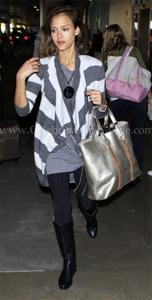C_cardigan sweater: (22, 58, 105, 175)
